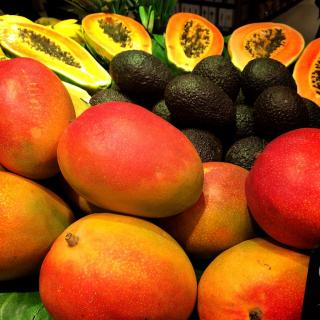Mango: (0, 56, 320, 320), (37, 212, 197, 320), (58, 100, 202, 218)
